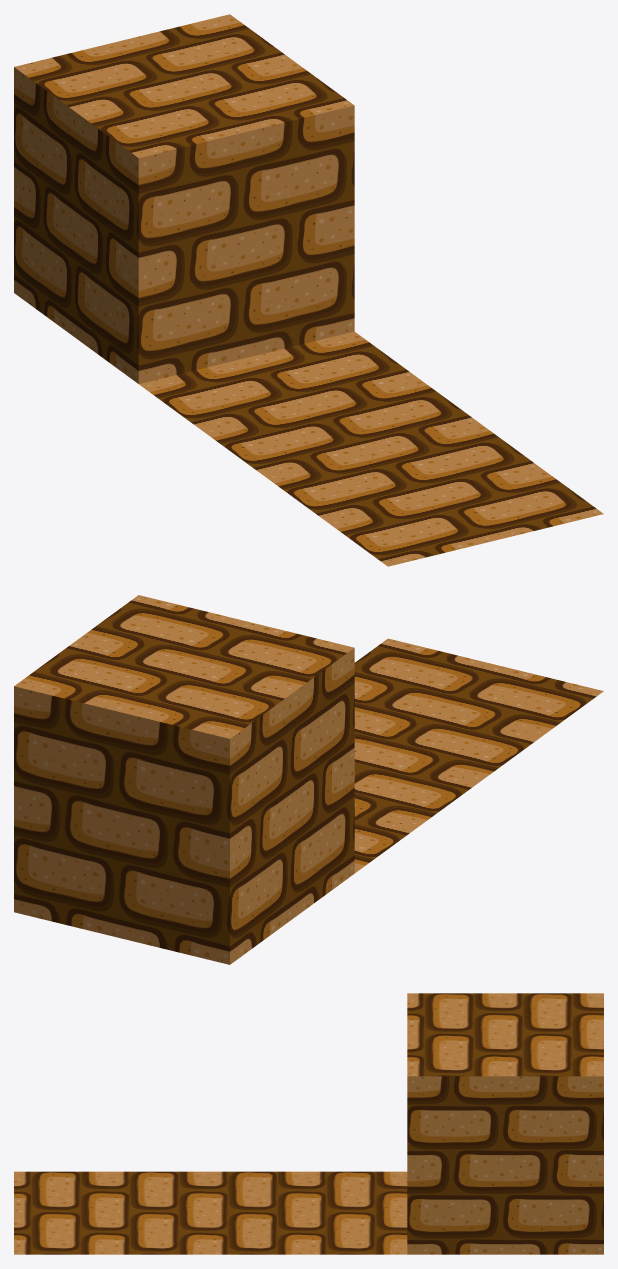
File: Demo_Meshes.FBX
3 renders of one model, top to bottom at view 1: azimuth 30°, elevation 25°; view 2: azimuth 150°, elevation 25°; view 3: azimuth 270°, elevation 25°, orthographic. The views are drawn at different scales.
Visible parts, largest first — view 1: Texture_Box; view 2: Texture_Box; view 3: Texture_Box.
Part boxes in pixels (x1,y1,x2,y2): Texture_Box: (14,14,603,566); Texture_Box: (14,595,603,964); Texture_Box: (14,993,603,1254).
Size of the model in its own units: 50 by 150 by 50.
1 material, 1 textured.
